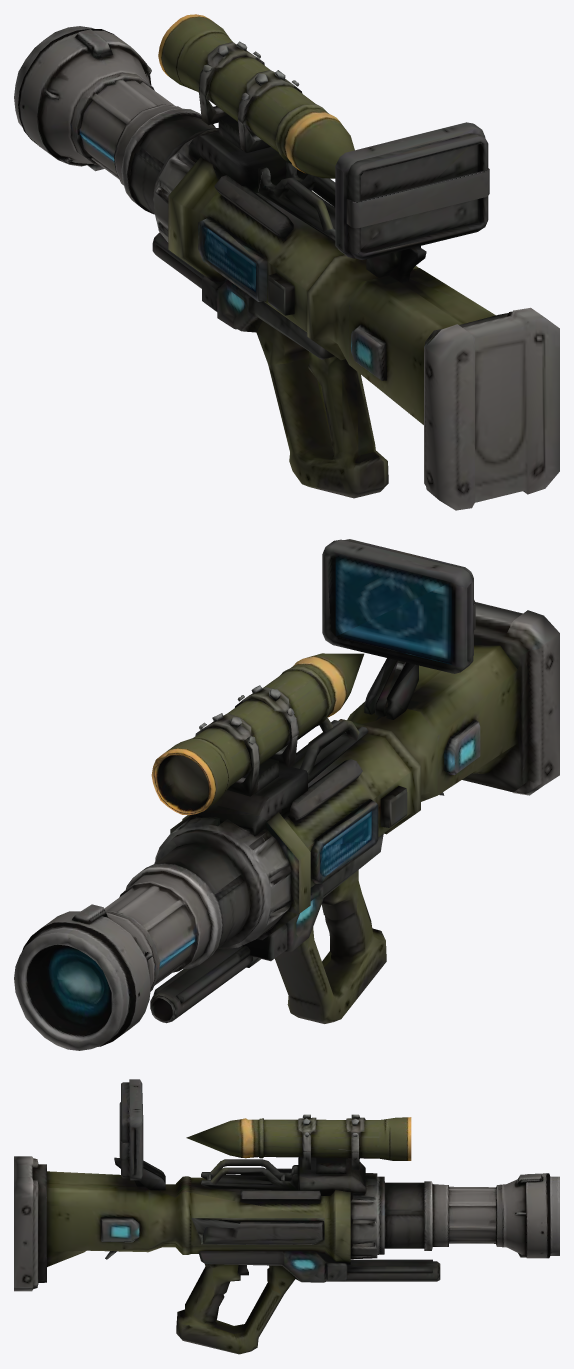
The model's file is weapon-rocket-v1.glb.
3 views of the same model, one above another, from view 1: azimuth 30°, elevation 25°; view 2: azimuth 150°, elevation 25°; view 3: azimuth 270°, elevation 25° (orthographic). The views are drawn at different scales.
Visible parts, largest first — view 1: weapon-rocket-v1; view 2: weapon-rocket-v1; view 3: weapon-rocket-v1.
Boxes of the visible parts, left/top/right/bottom form: weapon-rocket-v1: left=14, top=14, right=559, bottom=510; weapon-rocket-v1: left=14, top=539, right=559, bottom=1050; weapon-rocket-v1: left=14, top=1079, right=559, bottom=1354.
Bounding box in the file's own units: 0.2278 × 0.6177 × 1.2.
Materials: 1 (1 with a texture image).
